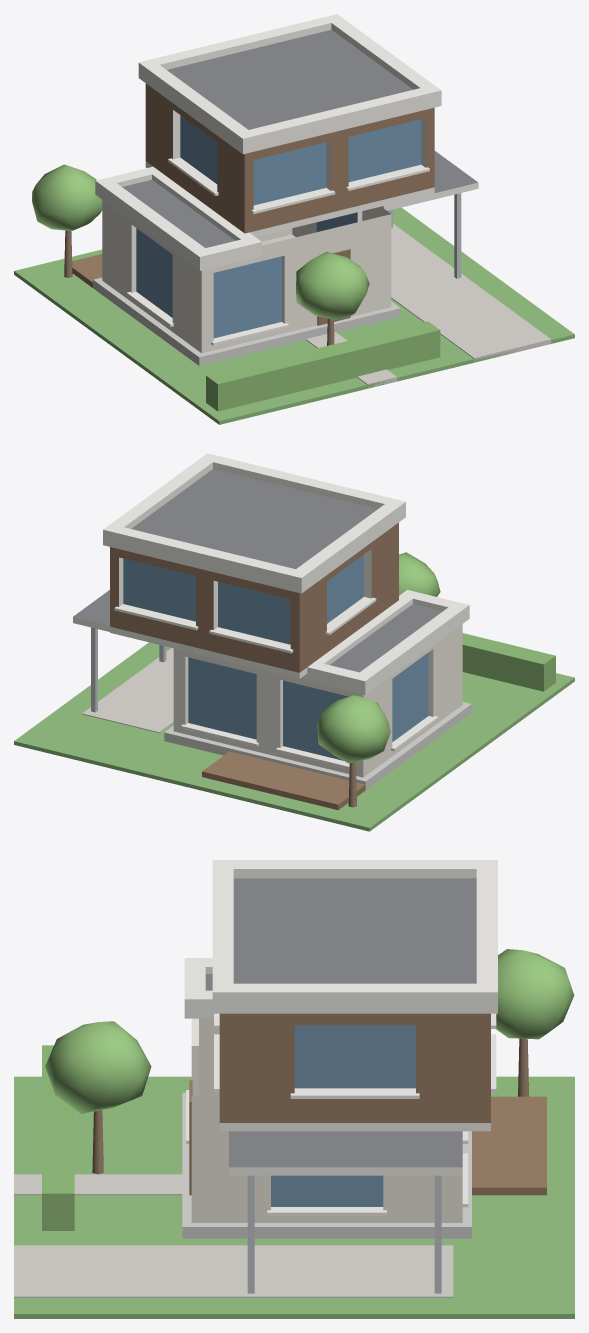
3 renders of one model, top to bottom at view 1: azimuth 30°, elevation 25°; view 2: azimuth 150°, elevation 25°; view 3: azimuth 270°, elevation 25°, orthographic. The views are drawn at different scales.
Visible parts, largest first — view 1: r_1_1_e; view 2: r_1_1_e; view 3: r_1_1_e.
Boxes of the visible parts, bbox=[...] form: r_1_1_e: bbox=[14, 14, 574, 424]; r_1_1_e: bbox=[14, 453, 574, 831]; r_1_1_e: bbox=[14, 860, 574, 1318].
Size of the model in its own units: 12 by 6.75 by 12.
